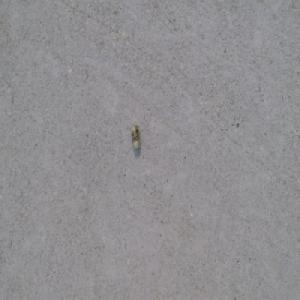BoltNutSet: (129, 123, 140, 148)
